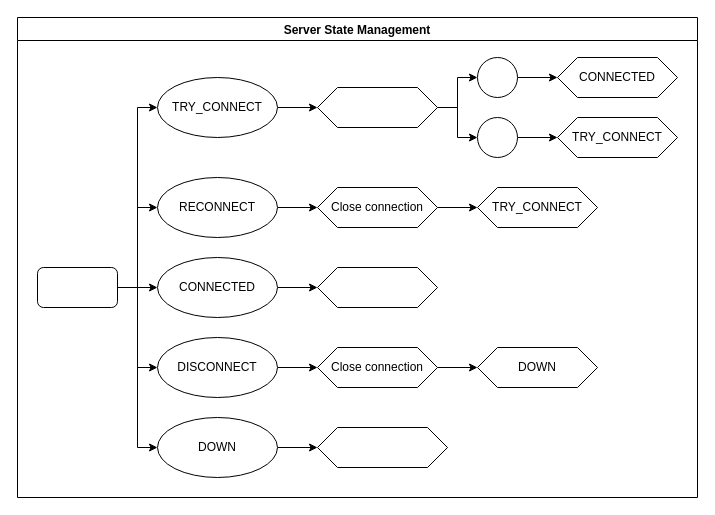
Image size: 715x515. Some labels were removed from this diagram. The shapes that lost their labels are listed below. From the top down, each one's centre as x and y in pixels, then its label:
the point at 497,77: ok
the point at 377,107: Connect to server
the point at 497,137: fail
the point at 77,287: State
the point at 377,287: Server Loop
the point at 382,447: Exit
